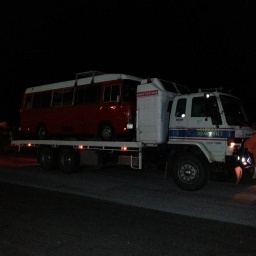bus: (22, 73, 136, 140)
truck: (11, 71, 256, 192)
